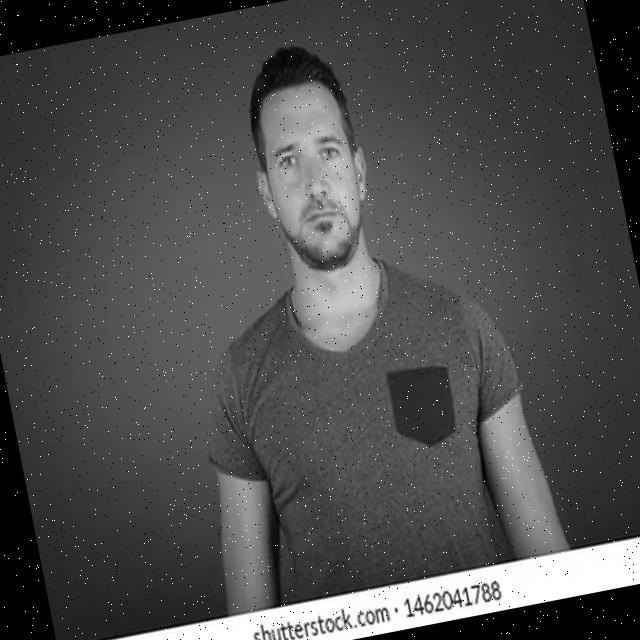Neutral: (252, 80, 372, 270)
